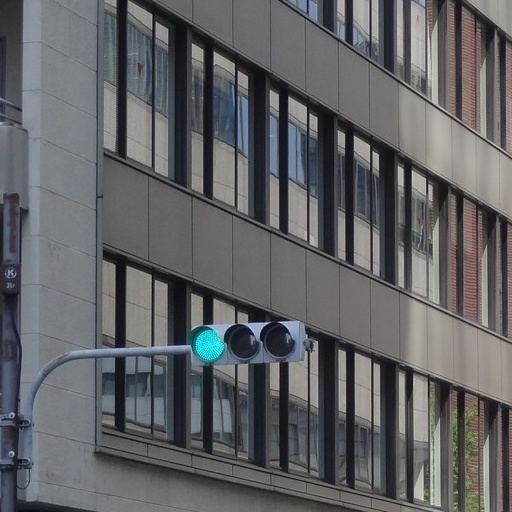Traffic_Signal_Blue: (183, 318, 303, 364)
